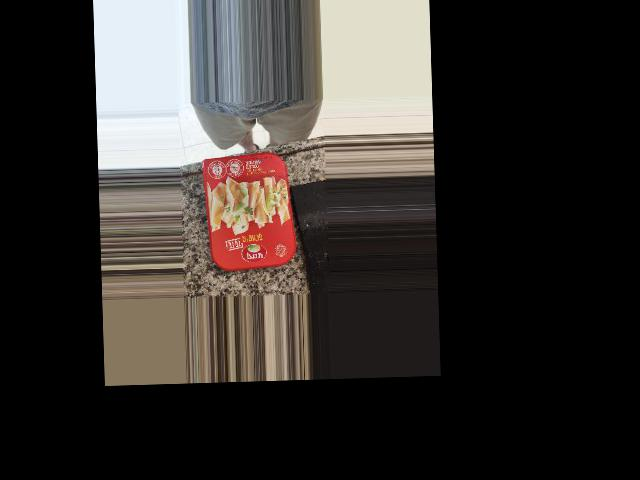cheese: (210, 127, 306, 237)
